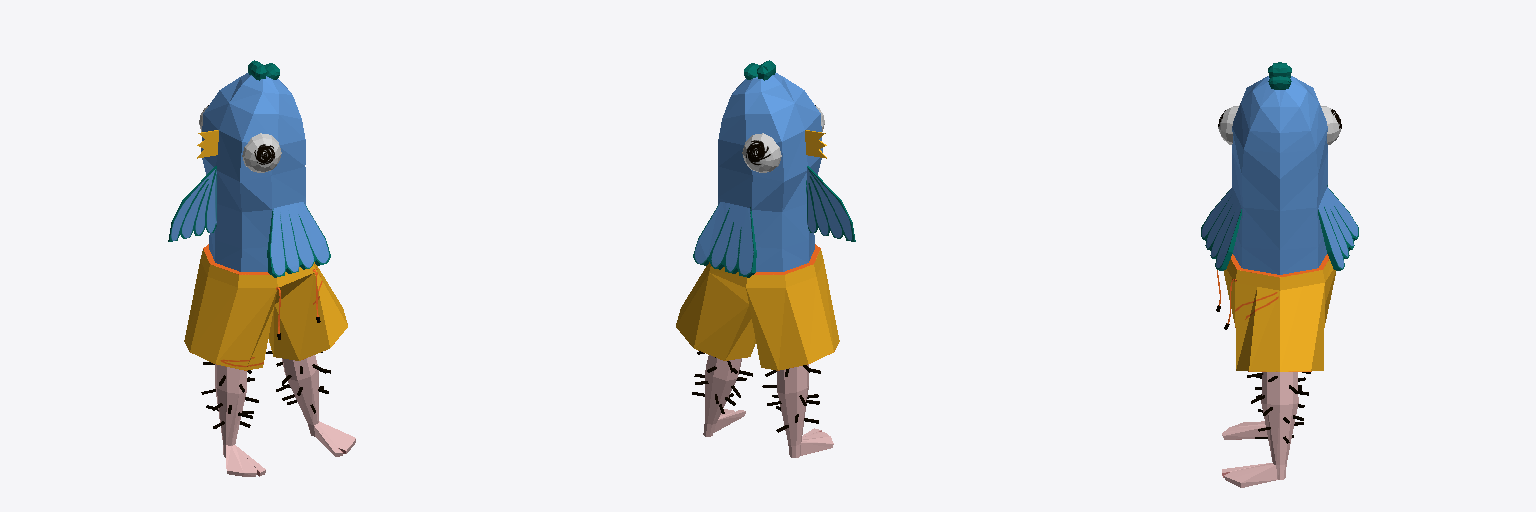
The picture shows the model from 3 angles: view 1: azimuth 30°, elevation 25°; view 2: azimuth 150°, elevation 25°; view 3: azimuth 270°, elevation 25°; orthographic projection.
Visible parts, largest first — view 1: Merman; view 2: Merman; view 3: Merman.
Boxes of the visible parts, <box> form: Merman: <box>168,60,355,476</box>; Merman: <box>676,60,855,457</box>; Merman: <box>1201,62,1358,487</box>.
Bounding box in the file's own units: 70.8 × 150 × 55.76.
Materials: 1 (1 with a texture image).